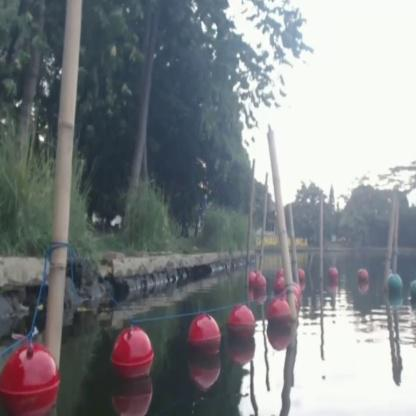green_buoy: (388, 272, 398, 298)
red_buoy: (0, 342, 61, 414), (108, 330, 156, 381), (182, 314, 223, 360), (266, 306, 293, 344), (232, 306, 255, 345), (254, 270, 268, 298), (330, 266, 340, 288), (298, 267, 304, 290), (353, 270, 360, 287)
